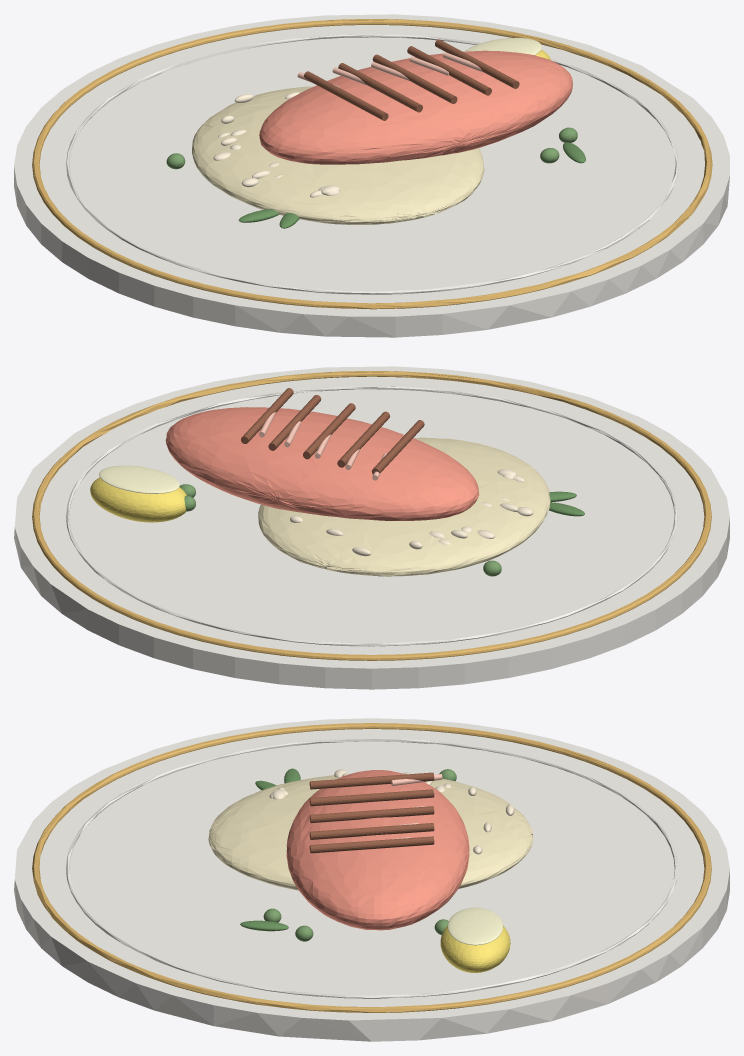
File: pan_seared_salmon_opt.glb
3 views of the same model, one above another, from view 1: azimuth 30°, elevation 25°; view 2: azimuth 150°, elevation 25°; view 3: azimuth 270°, elevation 25° (orthographic).
Parts seen in each view (by area): view 1: Porcelain plate, Seared salmon fillet, Fine gold plate rim; view 2: Porcelain plate, Seared salmon fillet, Fine gold plate rim; view 3: Porcelain plate, Seared salmon fillet, Fine gold plate rim.
Boxes of the visible parts, x1,y1,x2,y2 form: Porcelain plate: [14, 14, 729, 337]; Seared salmon fillet: [259, 50, 572, 164]; Fine gold plate rim: [32, 19, 712, 309]; Porcelain plate: [14, 366, 729, 689]; Seared salmon fillet: [165, 407, 479, 520]; Fine gold plate rim: [32, 371, 711, 660]; Porcelain plate: [14, 718, 729, 1041]; Seared salmon fillet: [286, 770, 469, 930]; Fine gold plate rim: [32, 723, 711, 1012].
Bounding box in the file's own units: 18 × 2.8 × 18.
3 materials, 3 textured.
